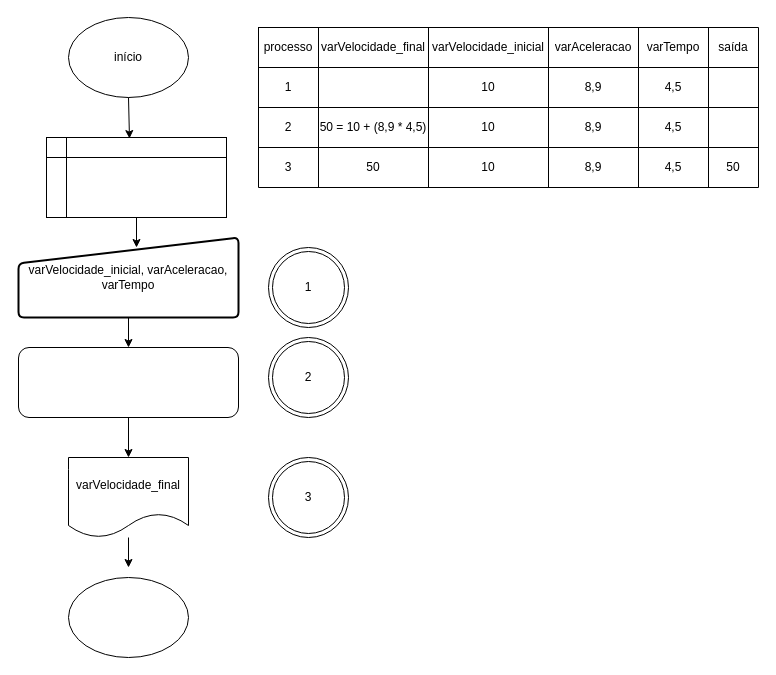
Image size: 776x675. Some labels were removed from this diagram. Here are the shapes that lost their labels. From the top down, the centre of each, then its label:
point (136, 177): varVelocidade_final, varVelocidade_inicial, varAceleracao, varTempo
point (128, 382): varVelocidade_final = varVelocidade_inicial + (varAceleracao * varTempo)
point (128, 617): fim
